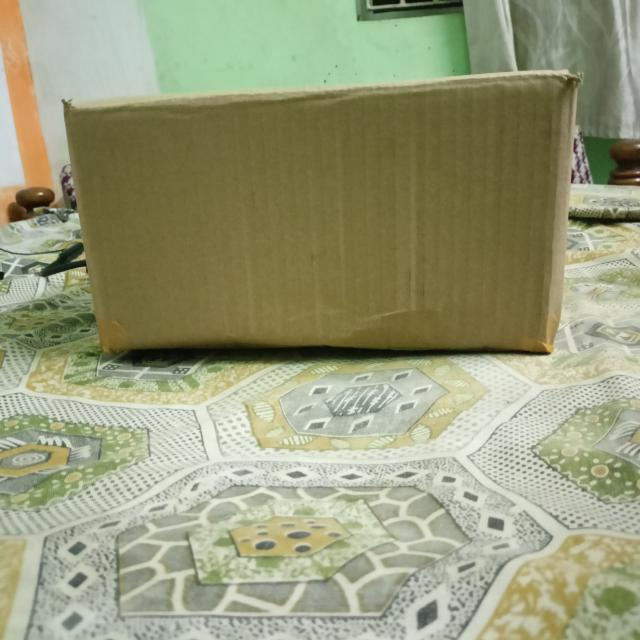box: (62, 76, 567, 353)
